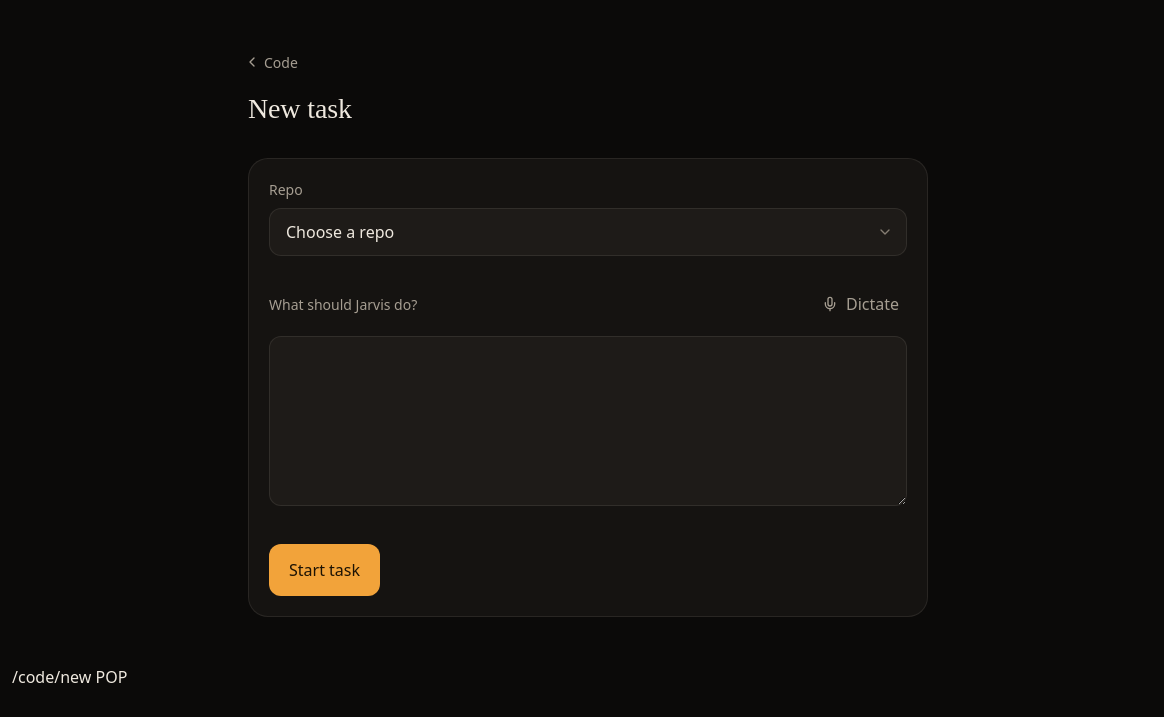
Code: new task › drops a field’s error once the field is fixed
The width and height of the screenshot is (1164, 717).
Click the button "Start task" at [324, 570], box [269,544,380,596]
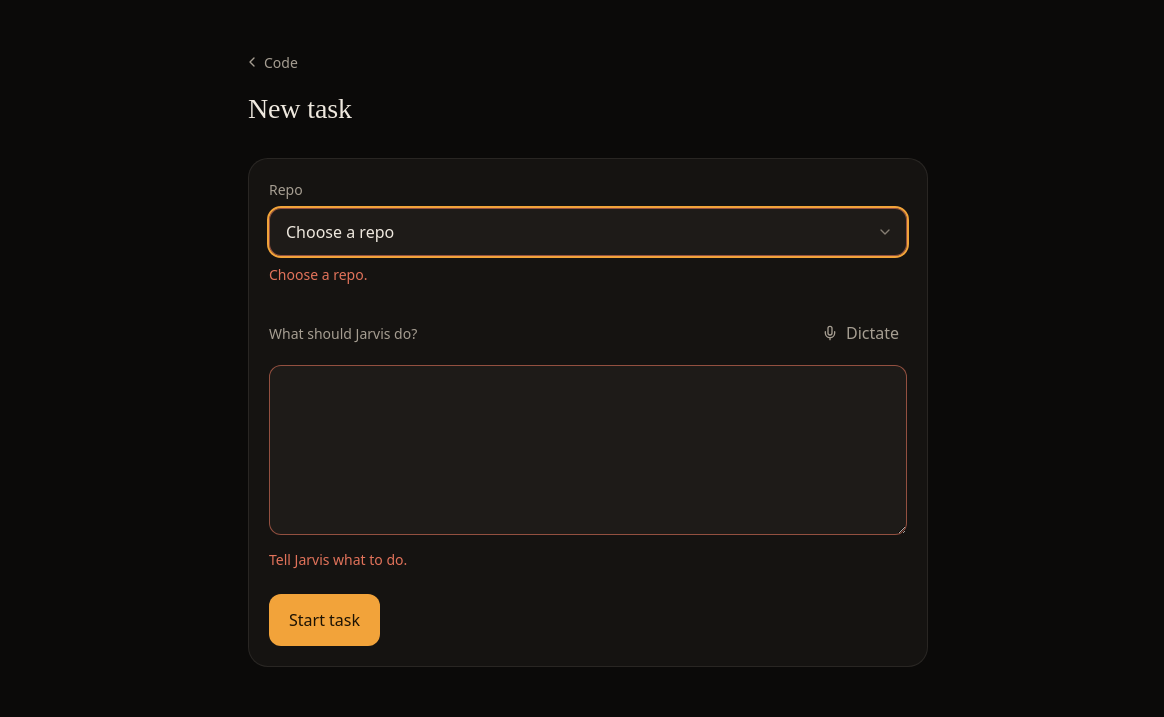
Select "acme/shop-admin" in the dropdown labelled "Repo" at [588, 232], box [269,208,907,256]
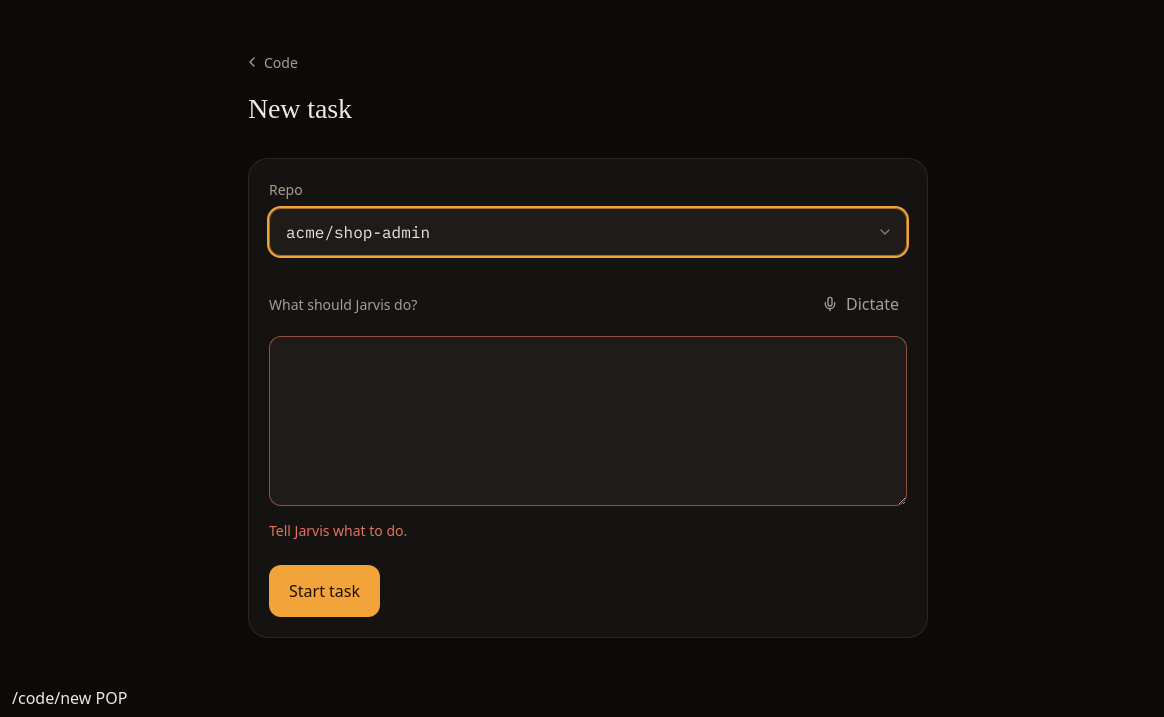
Expected: the text "Choose a repo." is gone
Type "Add a holiday banner" into the text box labelled "What should Jarvis do?" at [588, 421], box [269,336,907,506]
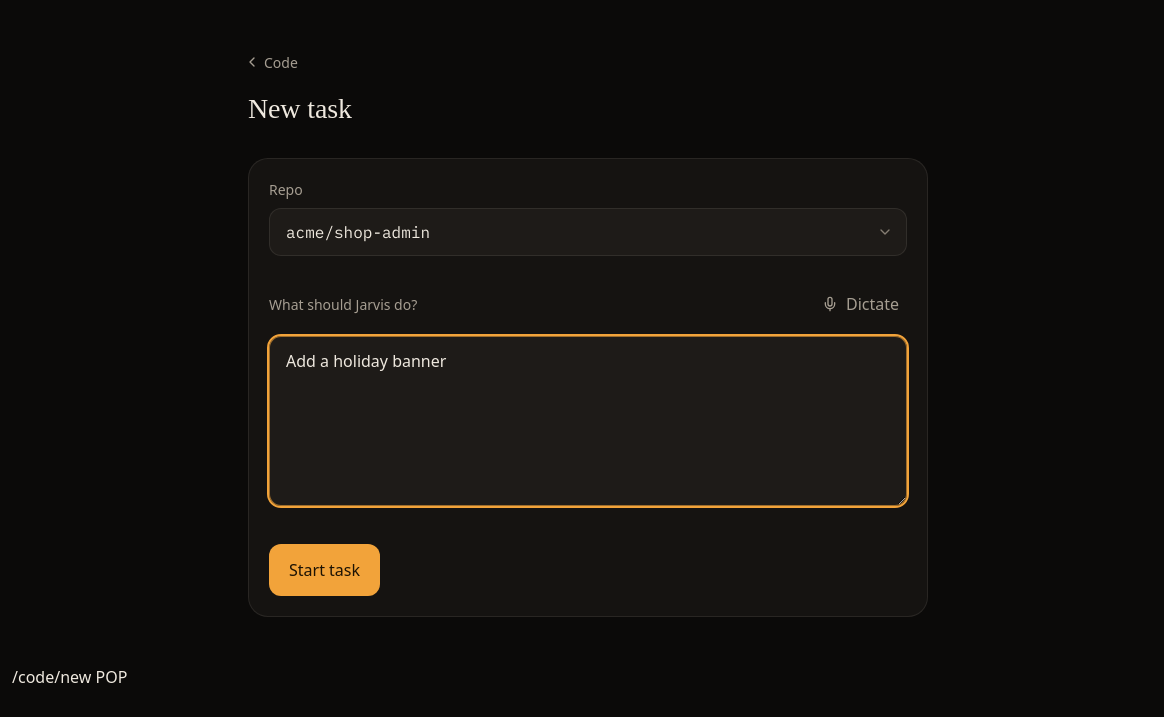
Expected: the text "Tell Jarvis what to do." is gone
